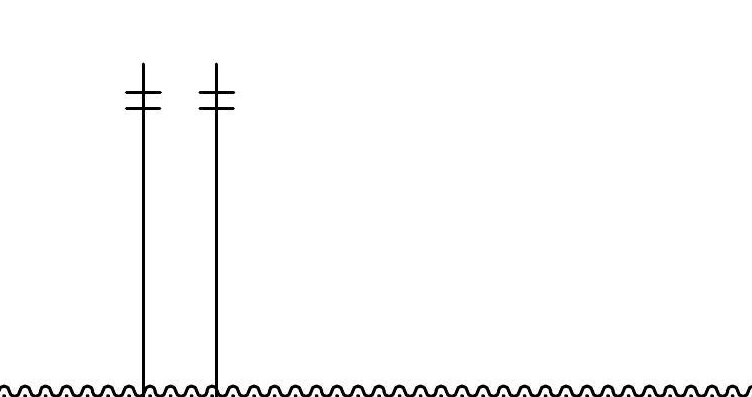115_buffer: (125, 91, 162, 110), (198, 91, 235, 110)
